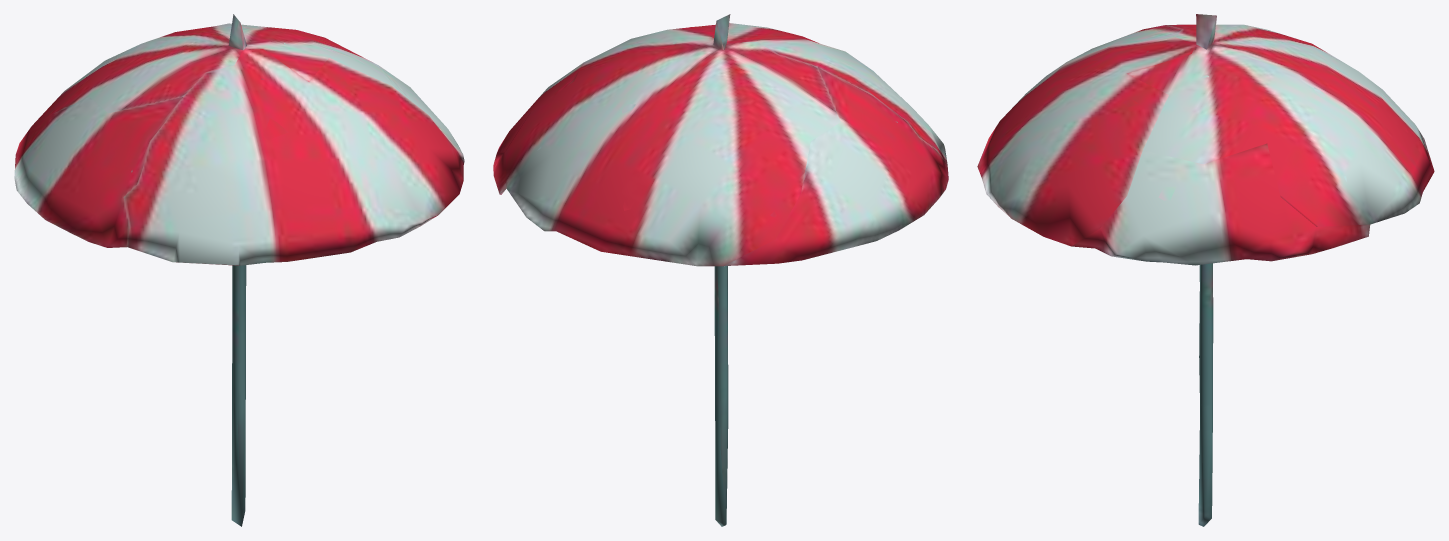
The model's file is umbrella-model-1.glb.
The picture shows the model from 3 angles, left to right: view 1: azimuth 30°, elevation 25°; view 2: azimuth 150°, elevation 25°; view 3: azimuth 270°, elevation 25°; orthographic projection.
Visible parts, largest first — view 1: Mesh_0; view 2: Mesh_0; view 3: Mesh_0.
Part boxes in pixels (left/top/right/bottom): Mesh_0: left=14, top=14, right=464, bottom=526; Mesh_0: left=493, top=14, right=948, bottom=526; Mesh_0: left=977, top=14, right=1434, bottom=526.
Bounding box in the file's own units: 1.62 × 2 × 1.62.
1 material, 1 textured.
